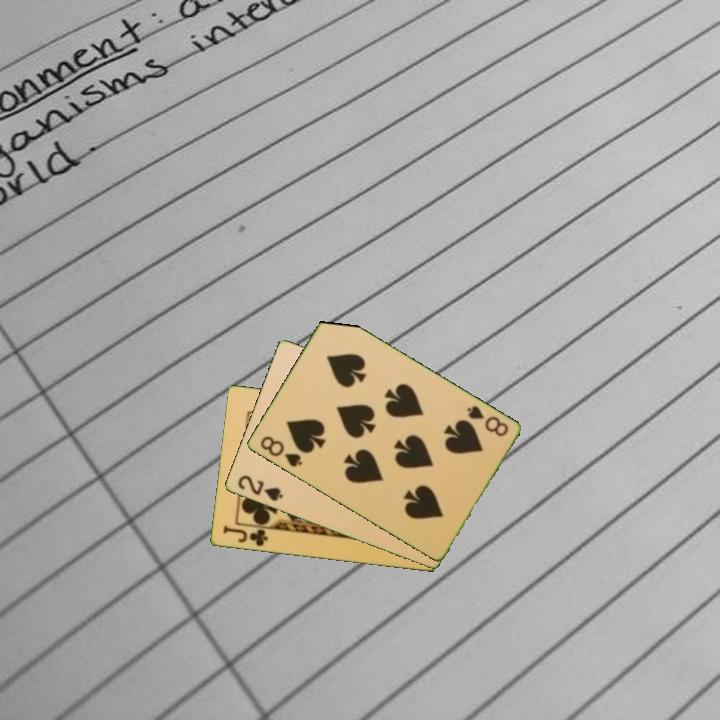2s: (234, 472, 286, 504)
8s: (256, 432, 305, 470), (463, 402, 511, 440)
Jc: (219, 522, 270, 549)
